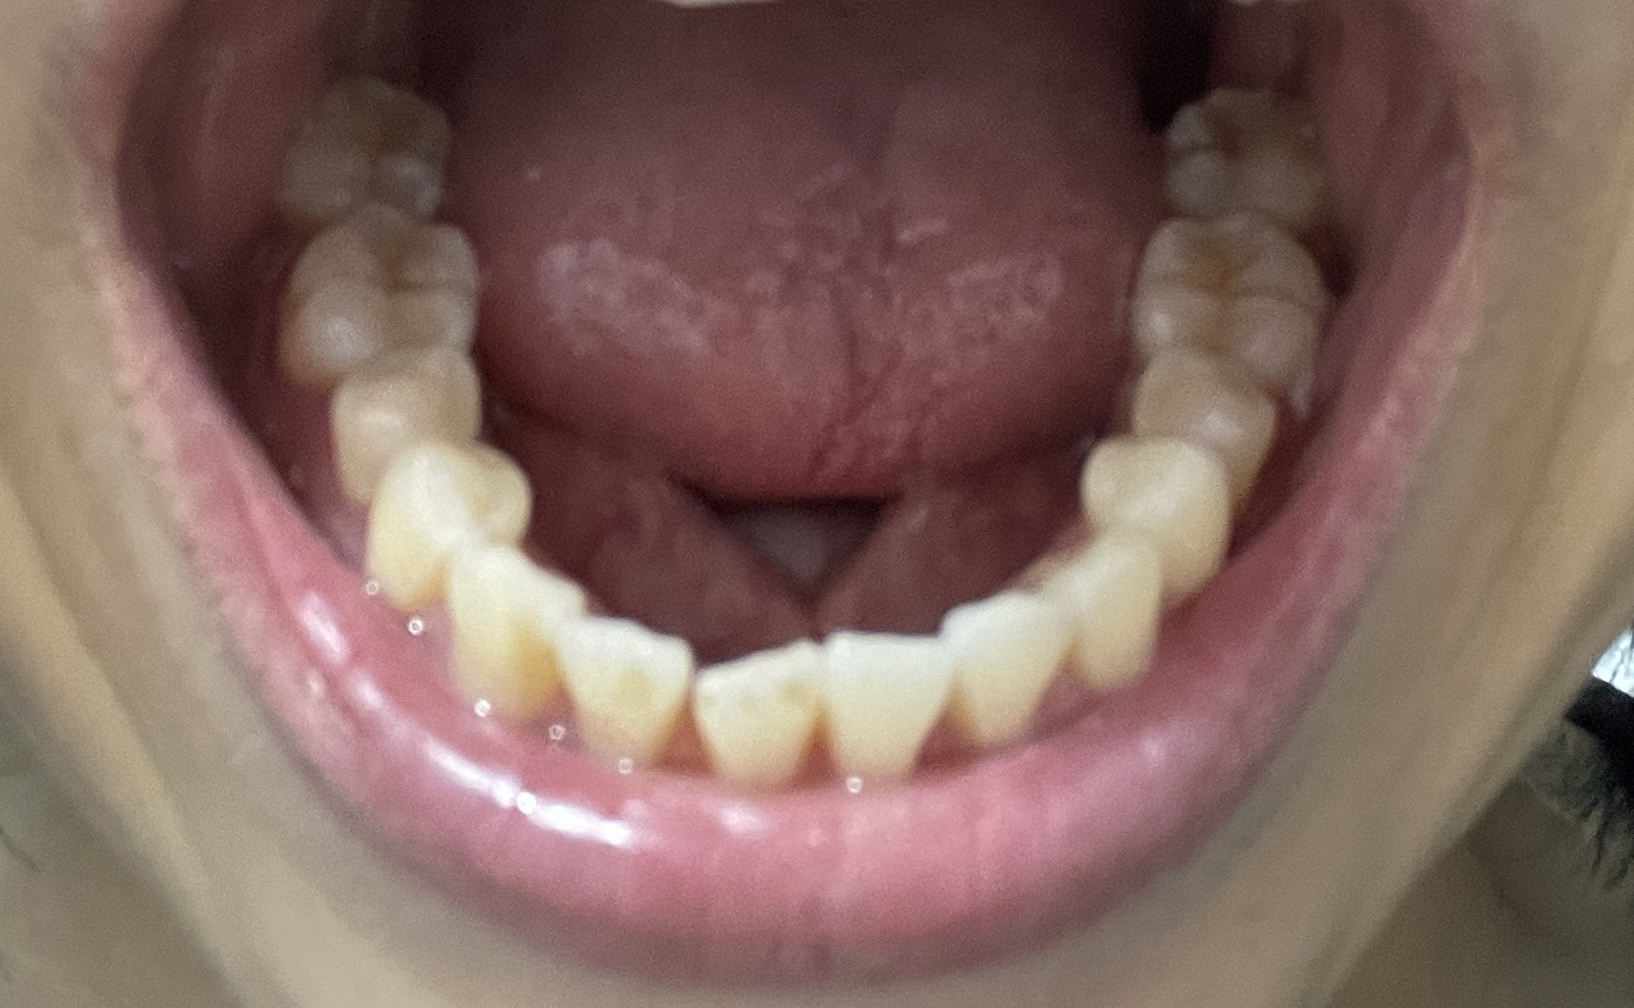teeth: (373, 449, 526, 574), (1052, 532, 1172, 687), (1147, 226, 1283, 357), (455, 549, 564, 699), (303, 84, 424, 201), (570, 628, 675, 761), (1098, 436, 1221, 549), (963, 608, 1062, 741), (706, 660, 813, 783), (1143, 348, 1264, 453), (317, 232, 444, 327), (842, 644, 934, 771), (355, 348, 448, 463), (1183, 108, 1292, 201)
